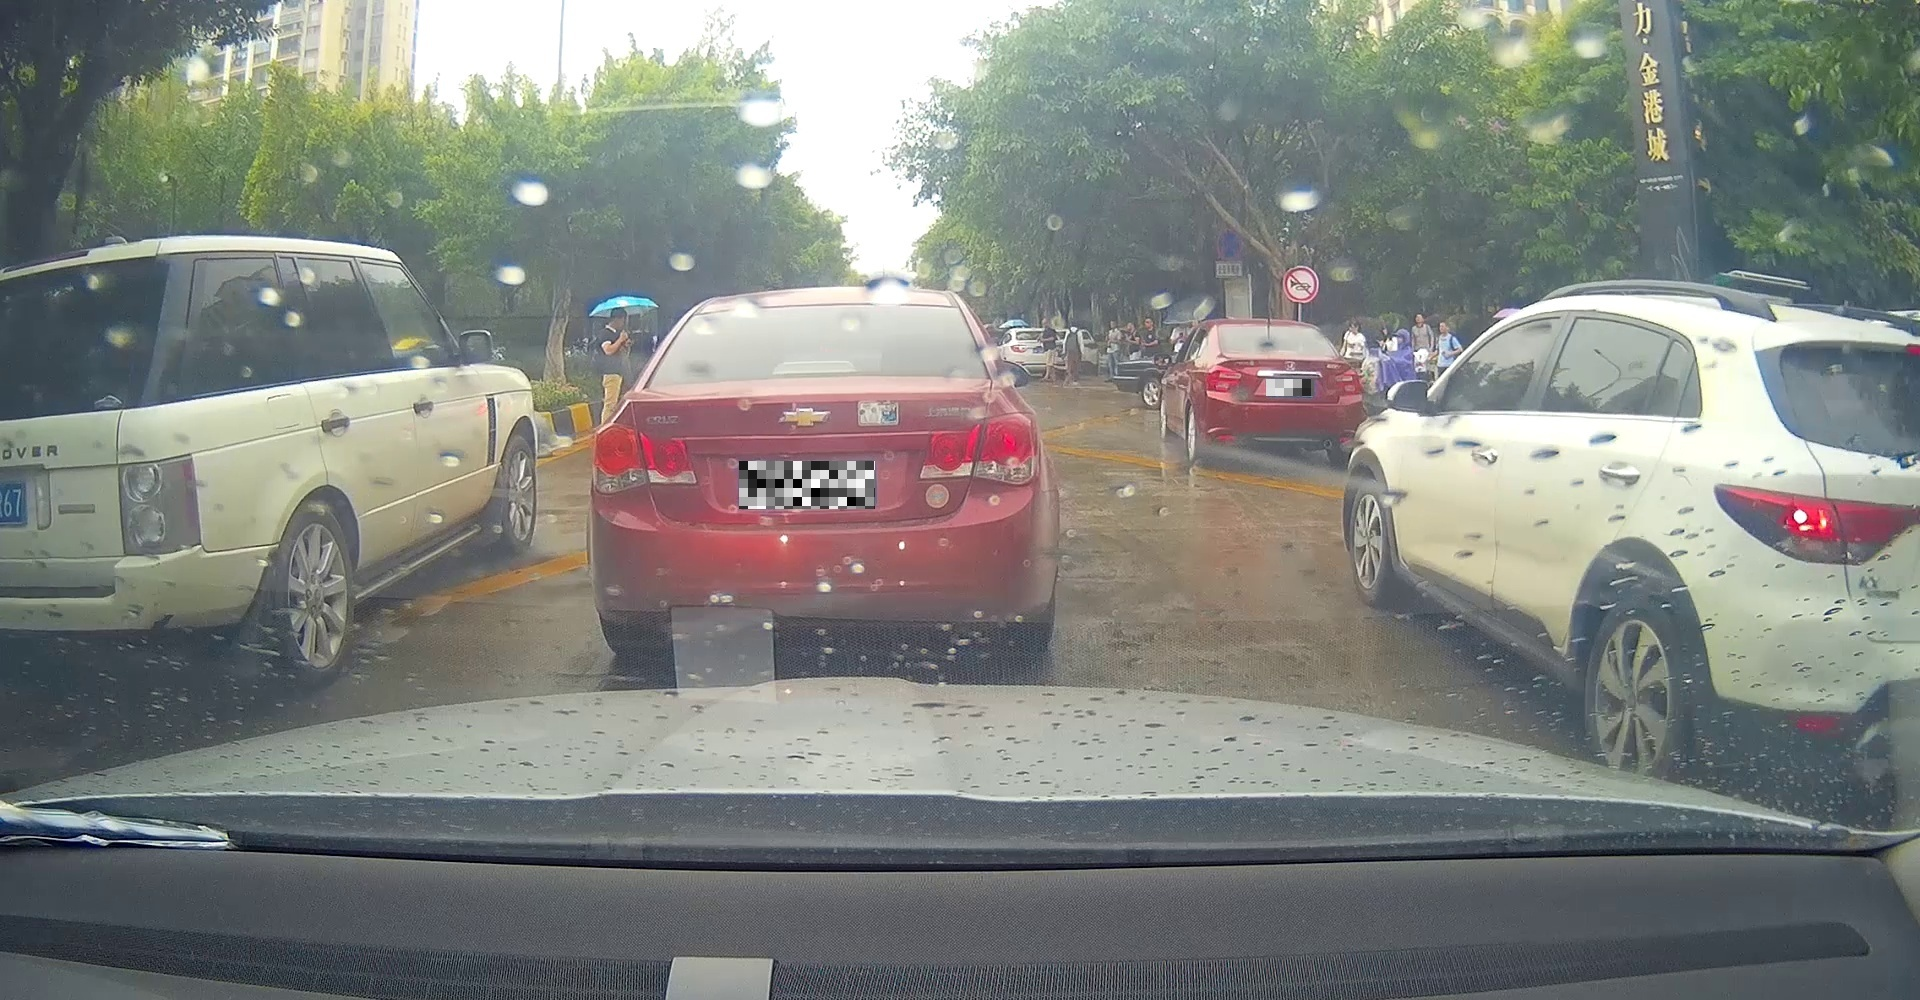L_light: (592, 423, 696, 495), (1204, 365, 1242, 392)
R_light: (919, 411, 1041, 486), (1335, 368, 1363, 393)
T_light: (775, 360, 856, 374), (1270, 349, 1297, 354)
day-no: (585, 286, 1060, 656), (1203, 319, 1363, 464)
plate_1: (739, 461, 875, 509)
plate_2: (1266, 379, 1314, 396)
